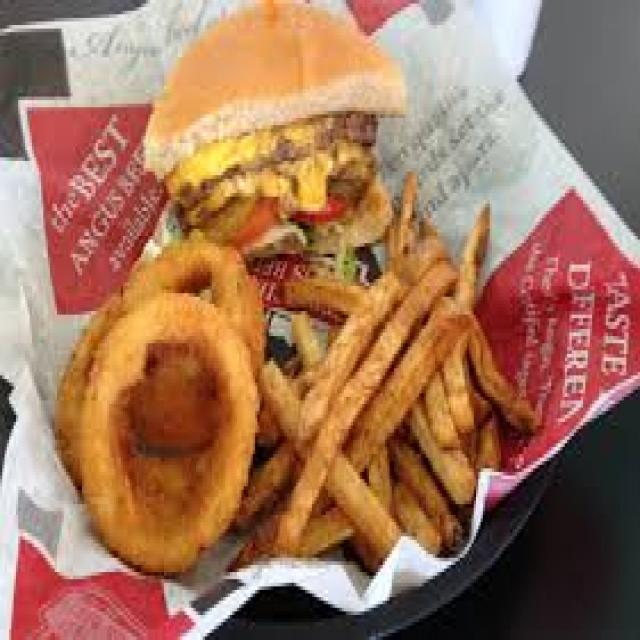Burger: (133, 0, 395, 247)
French Fries: (262, 190, 526, 572)
Onion Rings: (43, 232, 260, 583)
